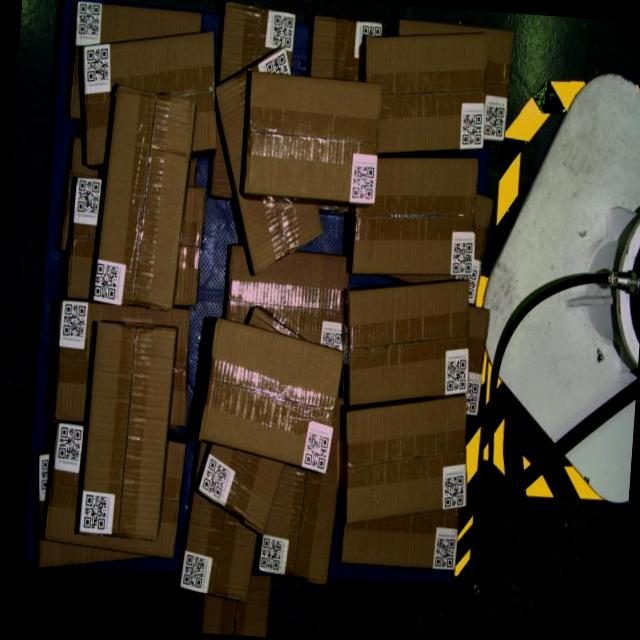box: (197, 316, 346, 475), (92, 85, 196, 312), (77, 321, 176, 540), (339, 388, 474, 532), (341, 272, 476, 413), (243, 71, 383, 205), (357, 24, 491, 160), (351, 150, 481, 282)
